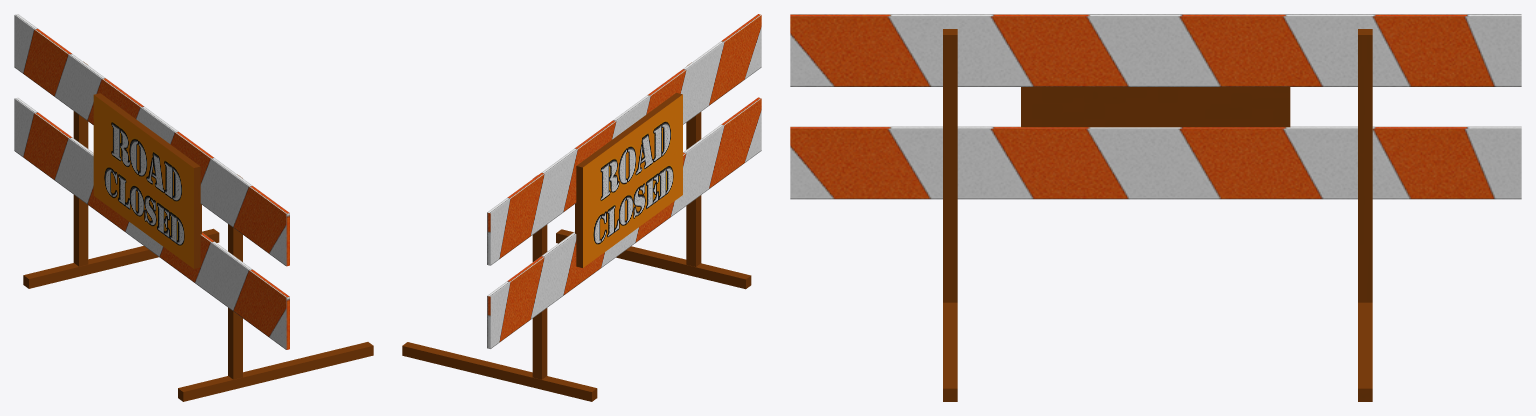
Rendered from RoadBarrier_1.fbx.
3 views of the same model, side by side, from view 1: azimuth 30°, elevation 25°; view 2: azimuth 150°, elevation 25°; view 3: azimuth 270°, elevation 25° (orthographic). The views are drawn at different scales.
Visible parts, largest first — view 1: Road_Barrier1; view 2: Road_Barrier1; view 3: Road_Barrier1.
Part boxes in pixels (x1=…): Road_Barrier1: x1=14, y1=14, x2=373, y2=401; Road_Barrier1: x1=402, y1=14, x2=761, y2=401; Road_Barrier1: x1=790, y1=14, x2=1521, y2=401.
Size of the model in its own units: 4.41 by 4.84 by 10.92.
1 material, 1 textured.
